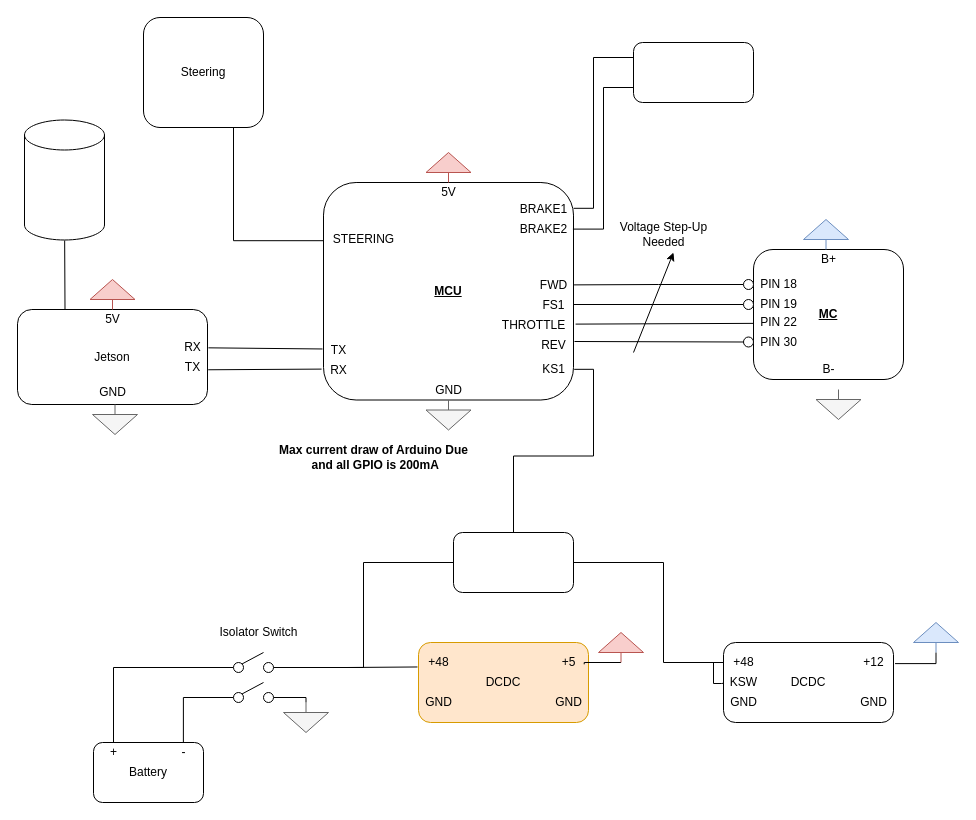
Image size: 976x820. Some labels were removed from this diagram. Here are the shapes that lost their labels. From the top down, the centre of each, then its label:
At point (693, 72): "Beak Linear Actuator".
At point (64, 179): "LiDAR".
At point (513, 562): "Contactor".
